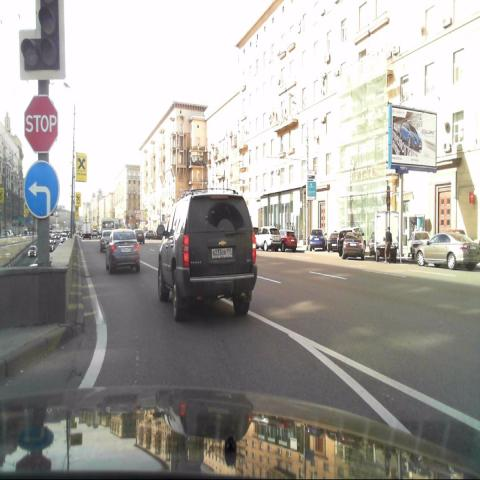4_1_3: (22, 158, 60, 221)
